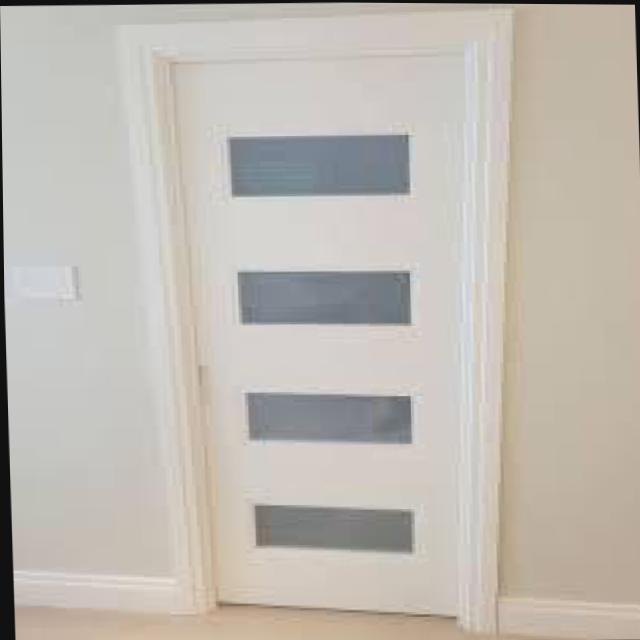close: (89, 3, 544, 639)
